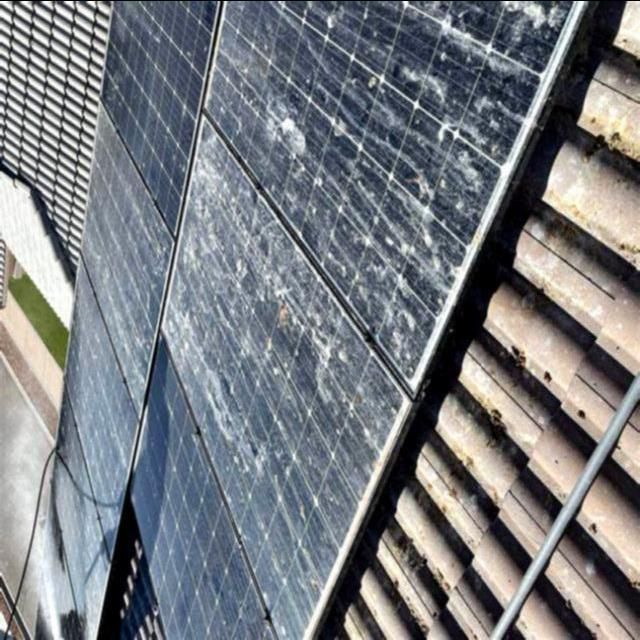soiled: (161, 1, 590, 633), (58, 112, 169, 558)
